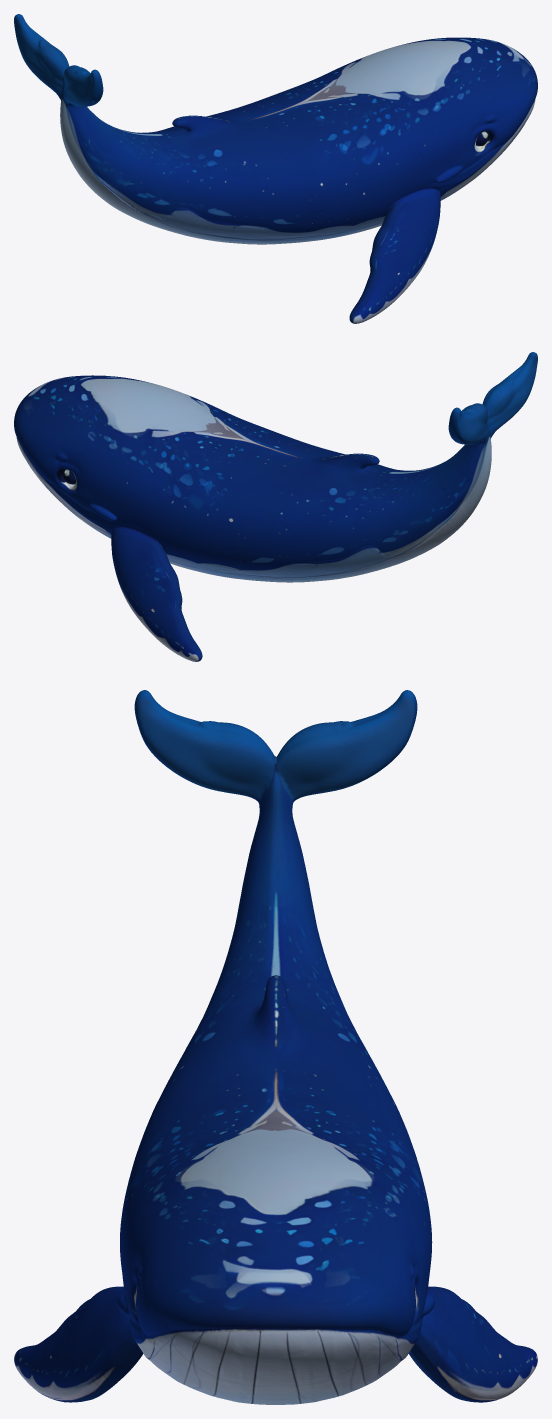
Rendered from whale.glb.
3 renders of one model, top to bottom at view 1: azimuth 30°, elevation 25°; view 2: azimuth 150°, elevation 25°; view 3: azimuth 270°, elevation 25°, orthographic. The views are drawn at different scales.
Visible parts, largest first — view 1: tripo_node_fb5e0da8-b815-4142-83fa-181d3628dfc3; view 2: tripo_node_fb5e0da8-b815-4142-83fa-181d3628dfc3; view 3: tripo_node_fb5e0da8-b815-4142-83fa-181d3628dfc3.
Part boxes in pixels (box(x1,y1,x2,y2)): tripo_node_fb5e0da8-b815-4142-83fa-181d3628dfc3: box(14, 14, 537, 323); tripo_node_fb5e0da8-b815-4142-83fa-181d3628dfc3: box(14, 352, 537, 661); tripo_node_fb5e0da8-b815-4142-83fa-181d3628dfc3: box(14, 690, 537, 1404).
Size of the model in its own units: 1 by 0.5723 by 0.5546.
1 material, 1 textured.
